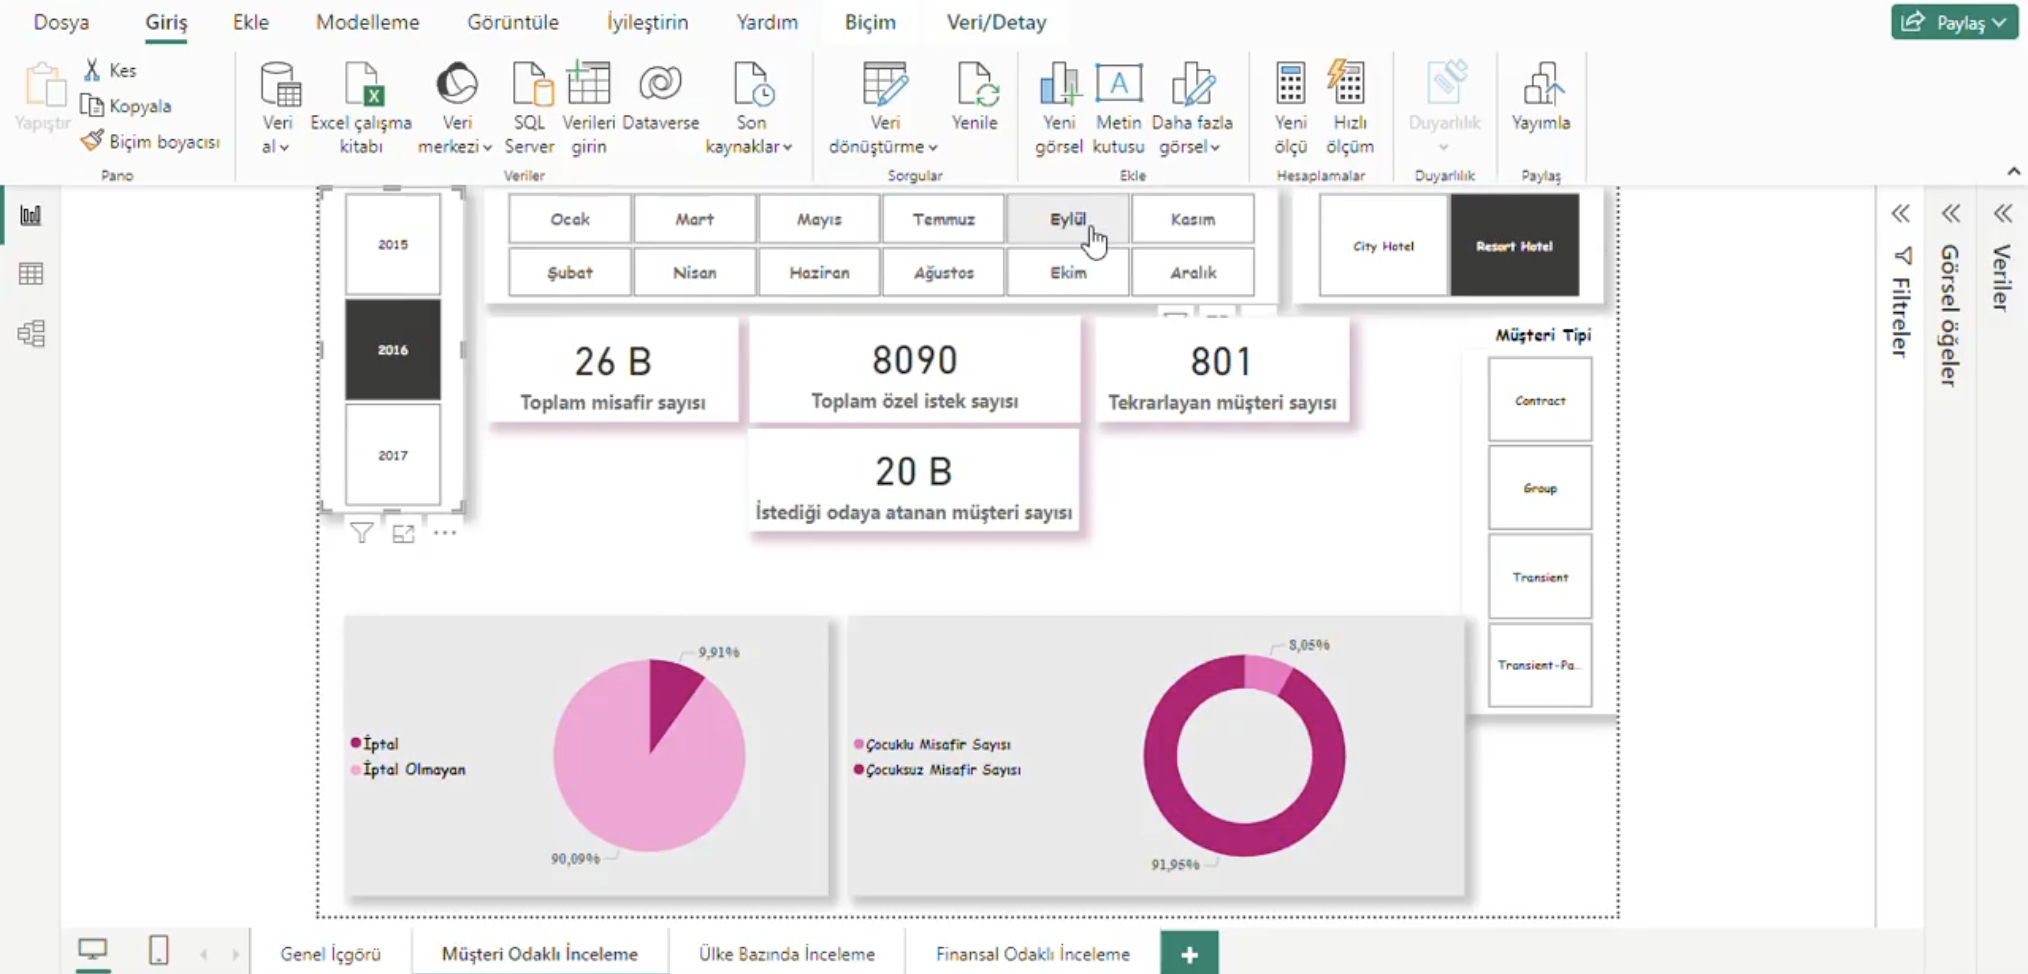

Layout of this report page (visuals, bound fields, positions):
{"tool":"powerbi","page":{"name":"Müşteri Odaklı İnceleme","canvas":[1280,720],"ordinal":1},"visuals":[{"type":"slicer","fields":{"Values":["hotel_bookings.Arrival_date.Varyasyon.Tarih Hiyerarşisi.Yıl"]},"box":[0,1.5,143.9,321.2],"z":0},{"type":"slicer","fields":{"Values":["hotel_bookings.Arrival_date.Varyasyon.Tarih Hiyerarşisi.Ay"]},"box":[160.6,1.5,784.8,115.2],"z":1000},{"type":"slicer","fields":{"Values":["hotel_bookings.hotel"]},"box":[960.6,1.5,306.1,115.2],"z":2000},{"type":"slicer","fields":{"Values":["hotel_bookings.customer_type"]},"box":[1127,161.9,152.4,358.7],"z":3000},{"type":"textbox","box":[1154,130.2,112.7,36.5],"z":4000},{"type":"card","fields":{"Values":["DAX.Toplam misafir sayısı"]},"box":[165.2,130.3,248.5,103],"z":5000},{"type":"donutChart","fields":{"Y":["DAX.Çocuklu Misafir Sayısı","DAX.Çocuksuz Misafir Sayısı"]},"box":[521.2,424.2,607.6,275.8],"z":6000},{"type":"card","fields":{"Values":["DAX.Toplam özel istek sayısı"]},"box":[424.2,128.8,325.8,104.5],"z":7000},{"type":"card","fields":{"Values":["DAX.Tekrarlayan müşteri sayısı"]},"box":[765.2,130.3,250,103],"z":8000},{"type":"pieChart","fields":{"Y":["DAX.İptal","DAX.İptal Olmayan"]},"box":[24.2,424.2,477.3,275.8],"z":9000},{"type":"card","fields":{"Values":["DAX.İstediği odaya atanan müşteri sayısı"]},"box":[422.9,240,326.3,101],"z":10000}]}

Visuals, with their boxes on the page's 1280x720 design canvas (x1, y1, x2, y2). These are canvas units, not pixel positions in the 2028x974 screenshot, which may show the page scaled, cropped or inside an application window:
slicer - hotel_bookings.Arrival_date.Varyasyon.Tarih Hiyerarşisi.Yıl: 0, 2, 144, 323
slicer - hotel_bookings.Arrival_date.Varyasyon.Tarih Hiyerarşisi.Ay: 161, 2, 945, 117
slicer - hotel_bookings.hotel: 961, 2, 1267, 117
slicer - hotel_bookings.customer_type: 1127, 162, 1279, 521
textbox: 1154, 130, 1267, 167
card - DAX.Toplam misafir sayısı: 165, 130, 414, 233
donutChart - DAX.Çocuklu Misafir Sayısı x DAX.Çocuksuz Misafir Sayısı: 521, 424, 1129, 700
card - DAX.Toplam özel istek sayısı: 424, 129, 750, 233
card - DAX.Tekrarlayan müşteri sayısı: 765, 130, 1015, 233
pieChart - DAX.İptal x DAX.İptal Olmayan: 24, 424, 502, 700
card - DAX.İstediği odaya atanan müşteri sayısı: 423, 240, 749, 341
